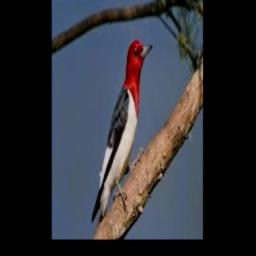Woodpecker: (91, 39, 152, 231)
